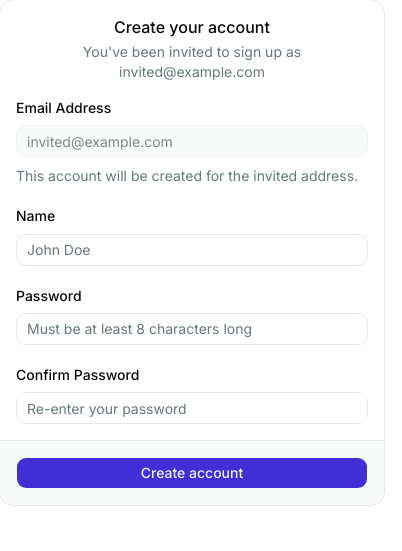
Test: SignUpForm › shows a refinement error when password and confirmPassword do not match
Type "Jane Doe" into the field labelled "Name".
click(192, 250); type("Jane Doe")  # box [16,234,368,266]
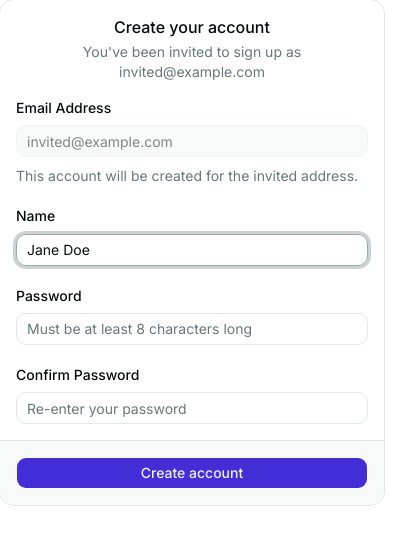
Type "password123" into the password field labelled "Password".
click(192, 329); type("password123")  # box [16,313,368,345]
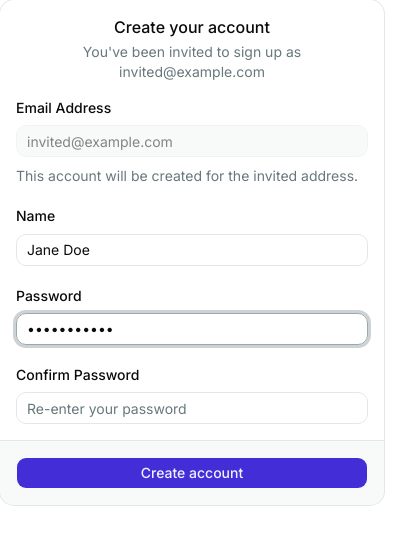
Type "different123" into the password field labelled "Confirm Password".
click(192, 408); type("different123")  # box [16,392,368,424]
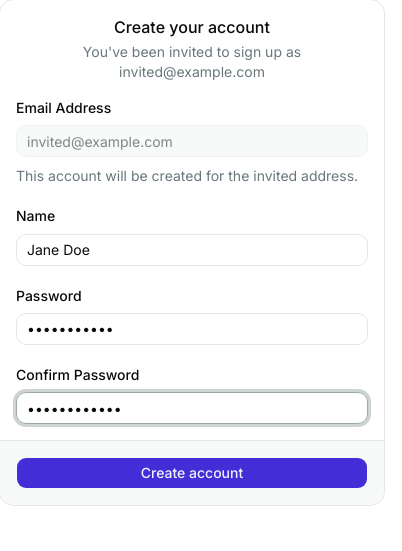
Click the button "Create account".
click(192, 473)  # box [16,457,368,489]
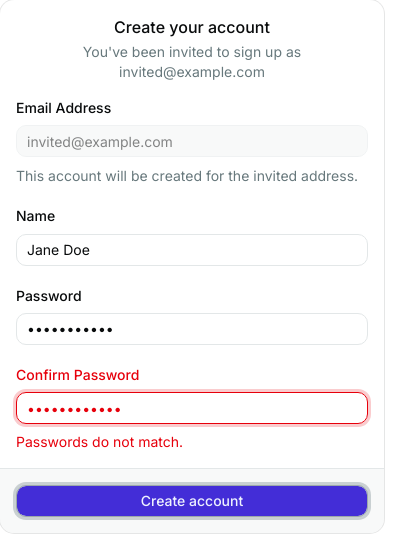
Check: the text "Passwords do not match." is shown, box [16,433,183,450]
